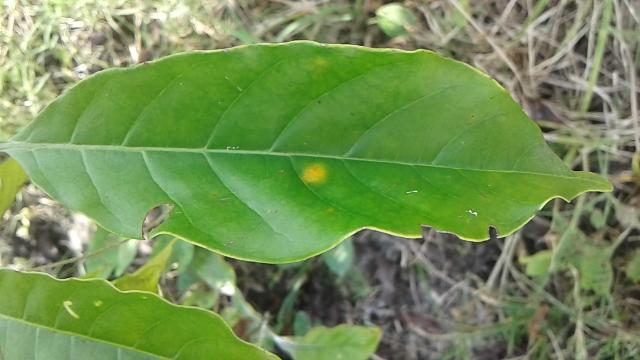rust_level_1: (4, 42, 611, 265)
